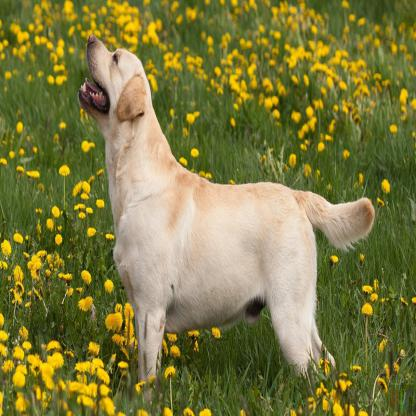Rotveler: (78, 27, 376, 390)
